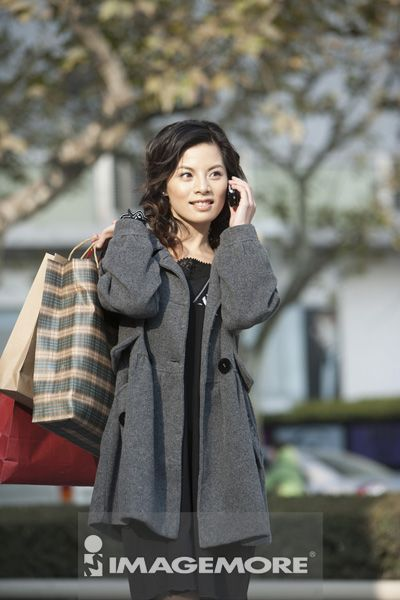talk: (170, 162, 258, 241)
